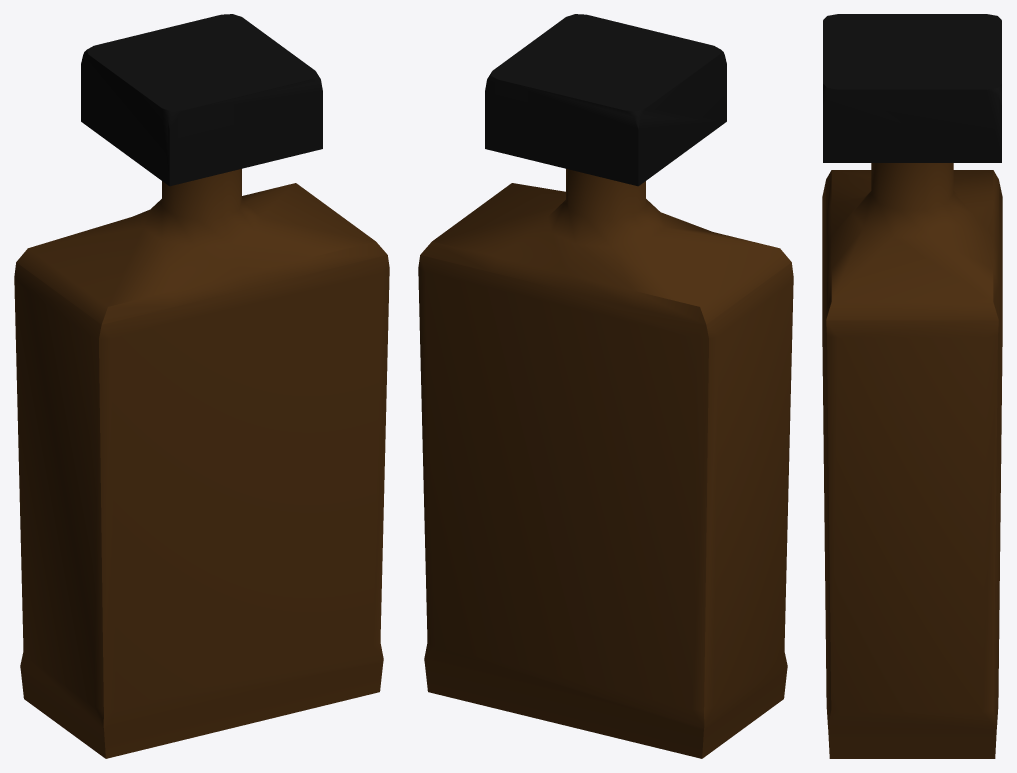
Rendered from Bottle_Armor.fbx.
3 views of the same model, side by side, from view 1: azimuth 30°, elevation 25°; view 2: azimuth 150°, elevation 25°; view 3: azimuth 270°, elevation 25° (orthographic).
Parts seen in each view (by area): view 1: Bottle_Amor; view 2: Bottle_Amor; view 3: Bottle_Amor.
Boxes of the visible parts, left/top/right/bottom form: Bottle_Amor: left=14, top=14, right=389, bottom=758; Bottle_Amor: left=418, top=14, right=793, bottom=758; Bottle_Amor: left=822, top=14, right=1002, bottom=758.
Size of the model in its own units: 12.59 by 25.48 by 6.51.
